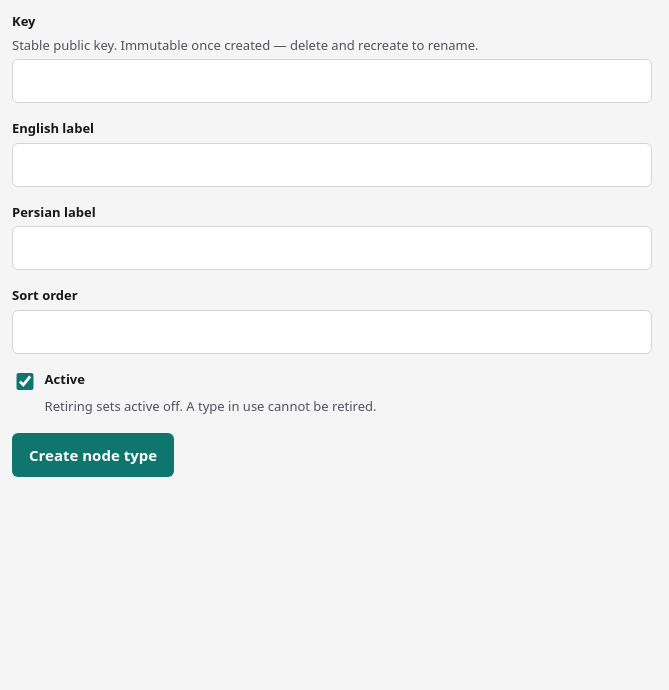
Scenario: NodeTypeForm (Plan B Task 13) › renders validation errors without saving
The image size is (669, 690).
Type "project" into the field labelled "Key" at coordinates (332, 81), box x1=12 y1=59 x2=652 y2=103
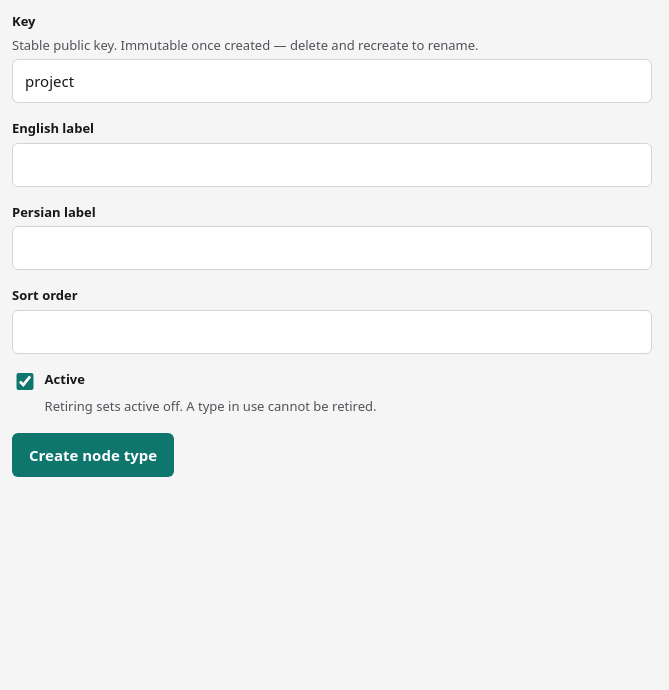
Type "Project" into the field labelled "English label" at coordinates (332, 164), box x1=12 y1=142 x2=652 y2=186
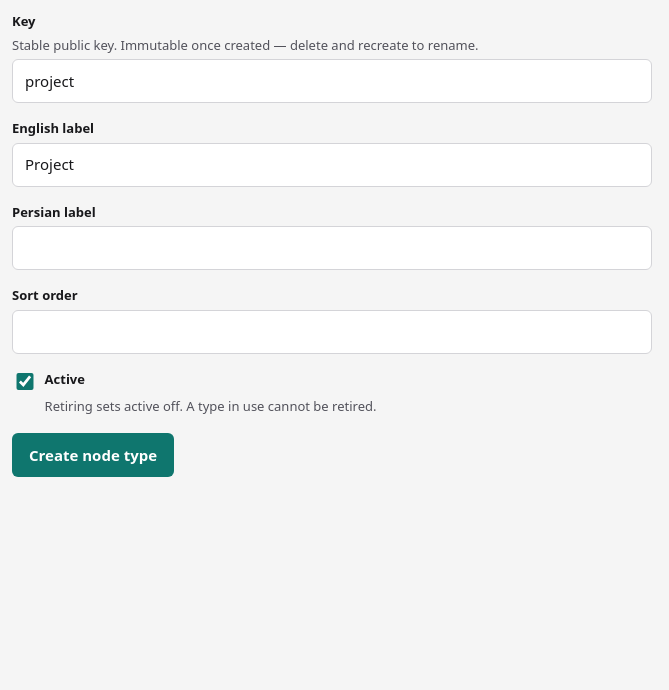
Type "پروژه" into the field labelled "Persian label" at coordinates (332, 248), box x1=12 y1=226 x2=652 y2=270
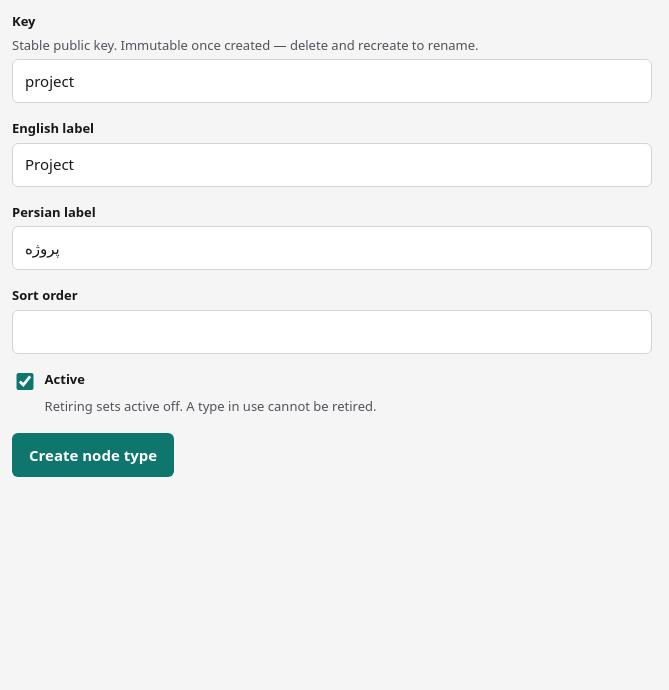
Click the button "Create node type" at coordinates (93, 455), box x1=12 y1=433 x2=174 y2=477
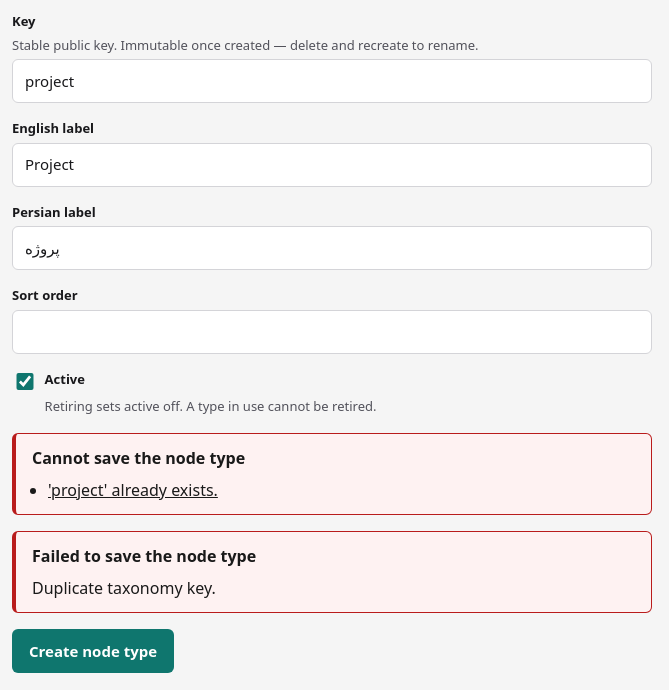
Expected: the link "'project' already exists." is shown, x1=48 y1=479 x2=218 y2=501
